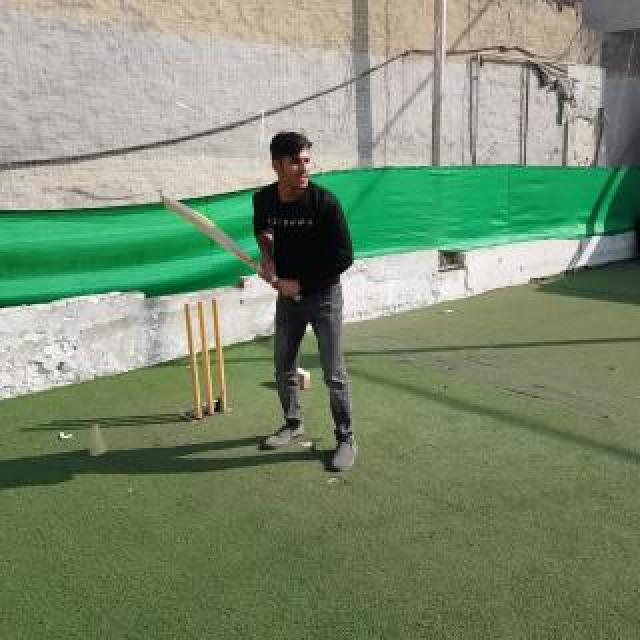bat: (160, 194, 302, 304)
